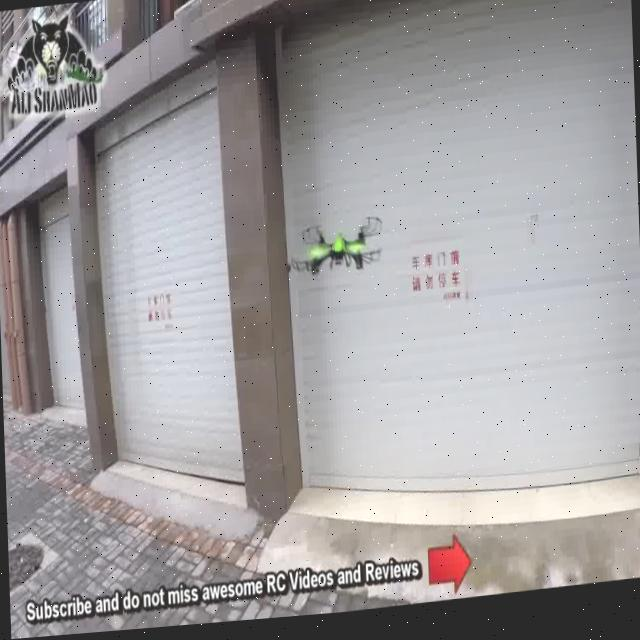drone: (282, 209, 387, 295)
